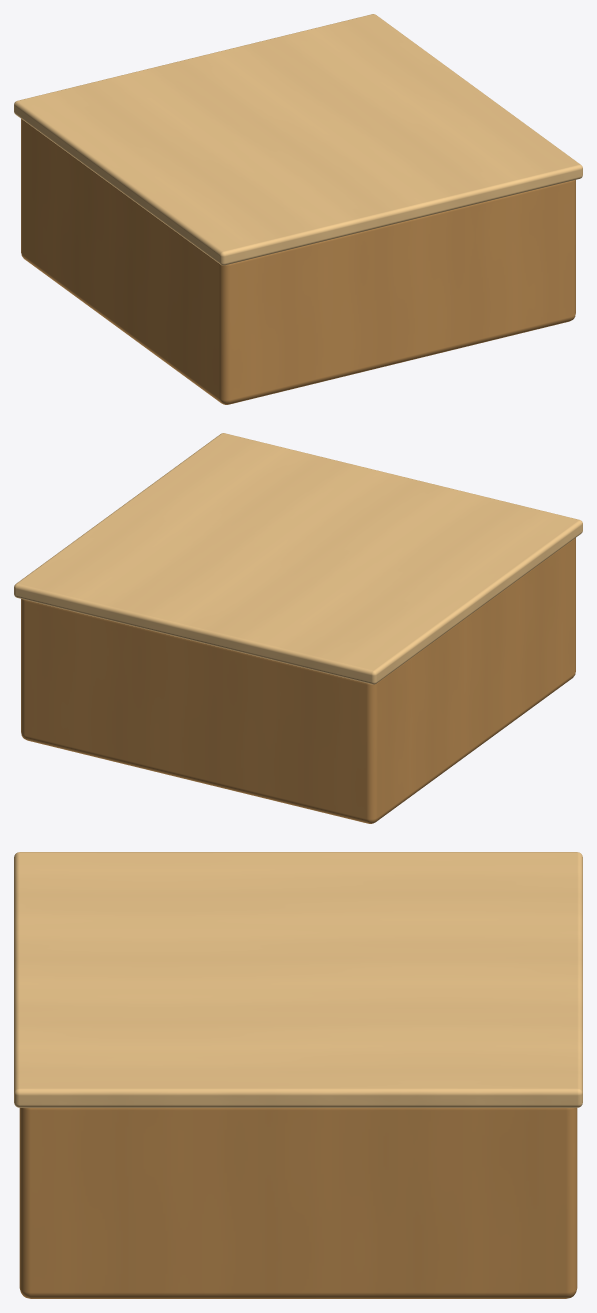
File: Platform_2m.glb
3 views of the same model, one above another, from view 1: azimuth 30°, elevation 25°; view 2: azimuth 150°, elevation 25°; view 3: azimuth 270°, elevation 25° (orthographic). The views are drawn at different scales.
Visible parts, largest first — view 1: Platform_2m; view 2: Platform_2m; view 3: Platform_2m.
Part boxes in pixels (bbox=[...]): Platform_2m: bbox=[14, 14, 582, 404]; Platform_2m: bbox=[14, 433, 582, 823]; Platform_2m: bbox=[14, 852, 582, 1298].
Size of the model in its own units: 2.04 by 0.8475 by 2.04.
Materials: 2 (2 with a texture image).
